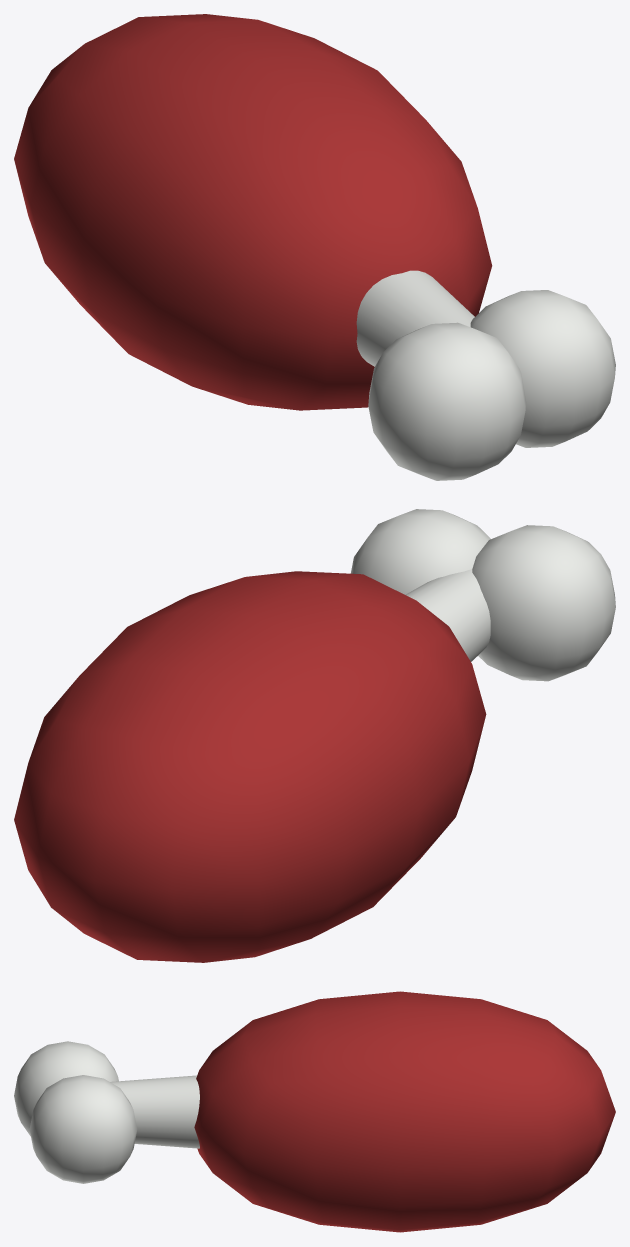
Rendered from Chicken.fbx.
The picture shows the model from 3 angles, top to bottom: view 1: azimuth 30°, elevation 25°; view 2: azimuth 150°, elevation 25°; view 3: azimuth 270°, elevation 25°; orthographic projection. The views are drawn at different scales.
Visible parts, largest first — view 1: Cube.001; view 2: Cube.001; view 3: Cube.001.
Part boxes in pixels (box(x1,y1,x2,y2)): Cube.001: box(14, 14, 615, 480); Cube.001: box(14, 509, 615, 962); Cube.001: box(14, 991, 615, 1232).
Size of the model in its own units: 92.04 by 78.62 by 204.
